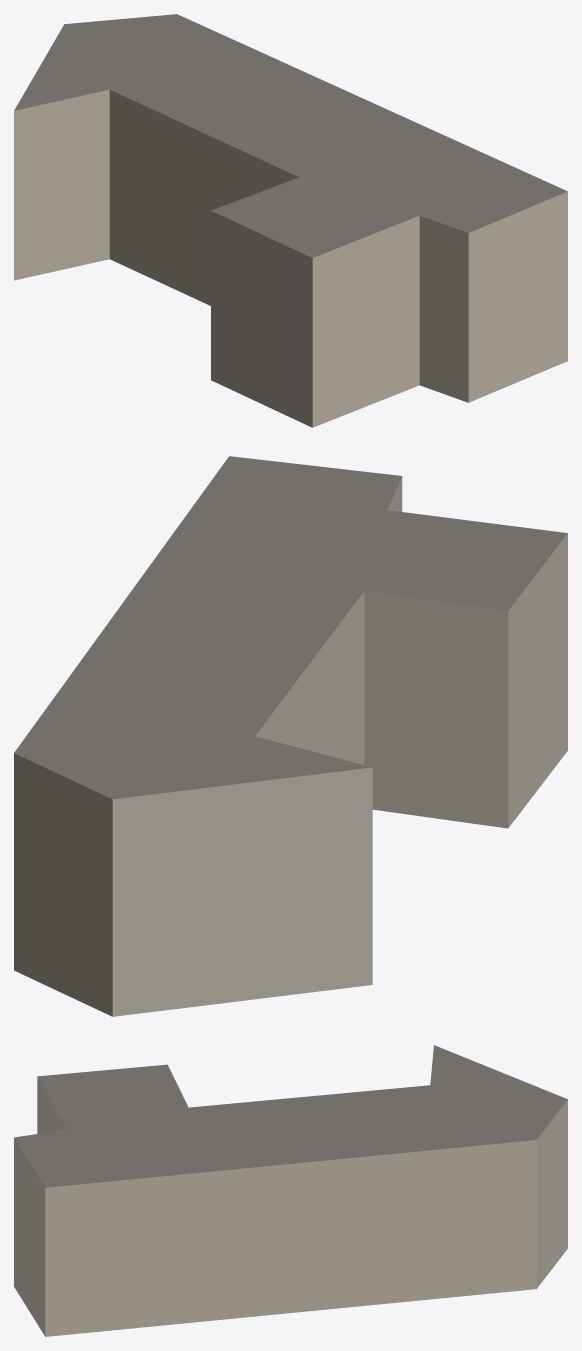
3 renders of one model, top to bottom at view 1: azimuth 30°, elevation 25°; view 2: azimuth 150°, elevation 25°; view 3: azimuth 270°, elevation 25°, orthographic. The views are drawn at different scales.
Visible parts, largest first — view 1: HP-w488956321; view 2: HP-w488956321; view 3: HP-w488956321.
Boxes of the visible parts, <box> form: HP-w488956321: <box>14,14,567,427</box>; HP-w488956321: <box>14,456,567,1016</box>; HP-w488956321: <box>14,1045,567,1336</box>.
Bounding box in the file's own units: 30.8 × 15 × 50.49.
